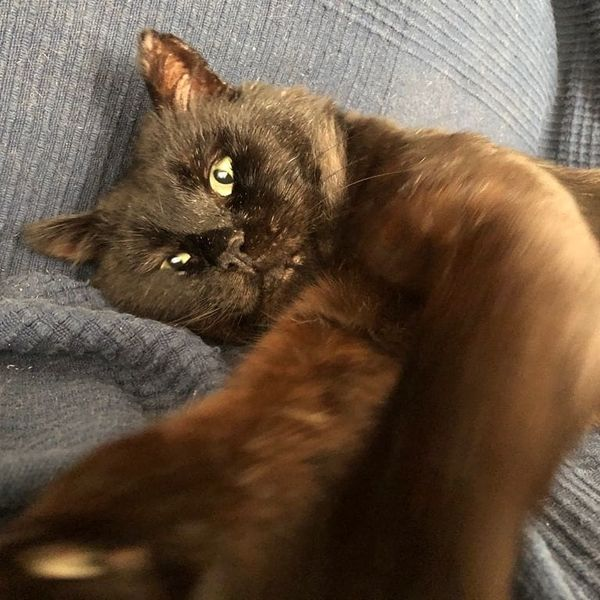cat: (10, 17, 591, 591)
